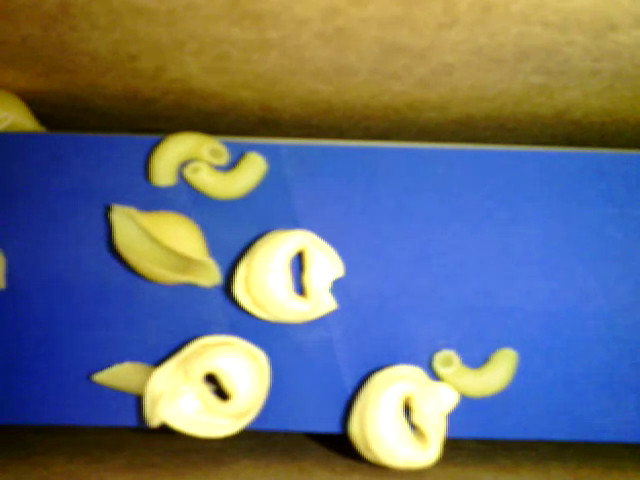elbow: (146, 130, 230, 190), (181, 151, 270, 201), (433, 349, 521, 398), (1, 102, 11, 128)
penne: (86, 361, 158, 398)
shell: (107, 203, 223, 289), (1, 92, 48, 132)
tortellini: (143, 332, 274, 439), (345, 362, 460, 471), (229, 227, 343, 324)
